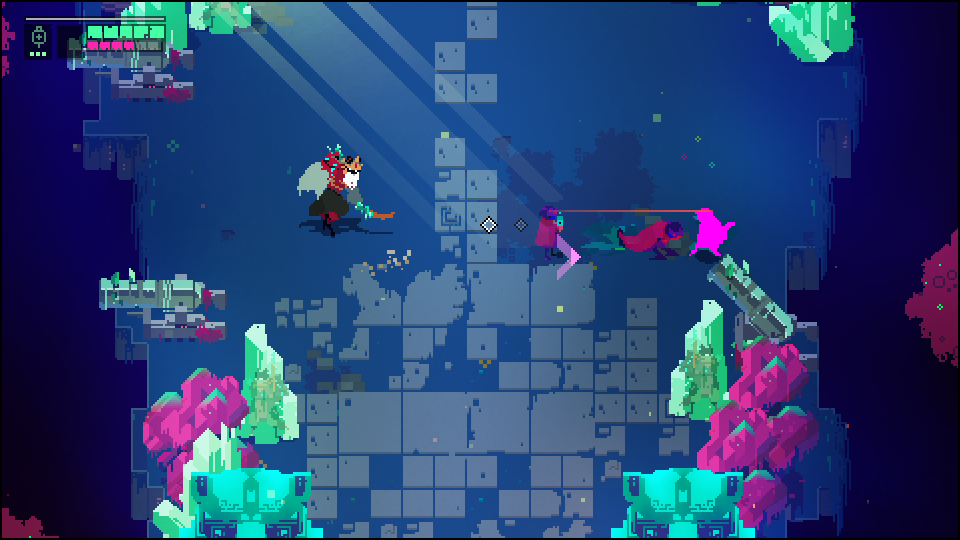hanged_man: (298, 144, 398, 228)
player: (690, 208, 738, 258)
